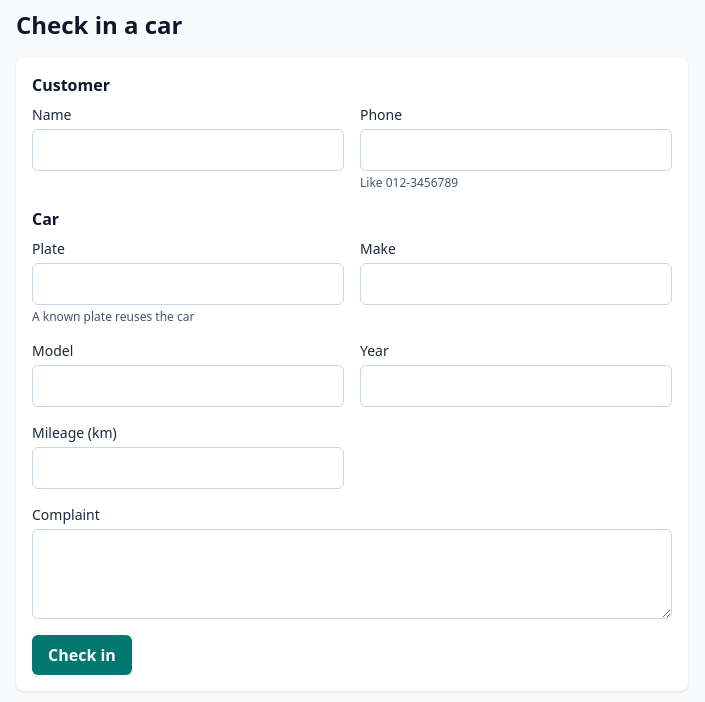
Scenario: CheckInPage › shows the server message next to each field
The image size is (705, 702).
(page scrolled)
Click the button "Check in" at (82, 655), box [32,635,132,675]
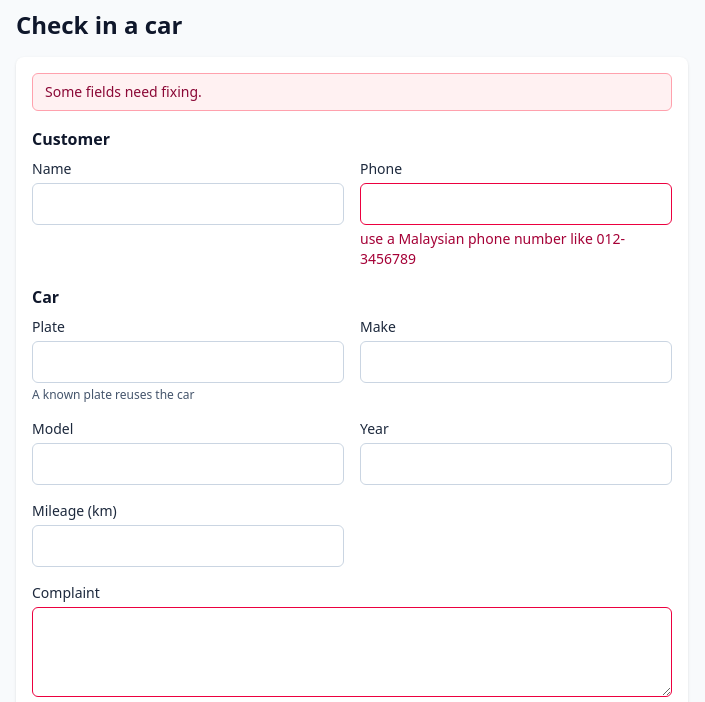
Expected: the text "use a Malaysian phone number like 012-3456789" is shown, [360,229,625,268]
Expected: the message reads "Some fields need fixing.", [45,82,202,101]
